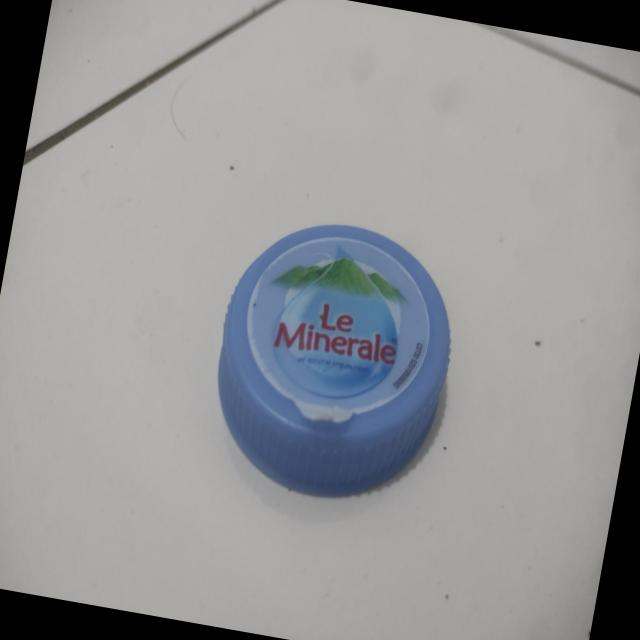TutupGalon: (195, 203, 470, 514)
